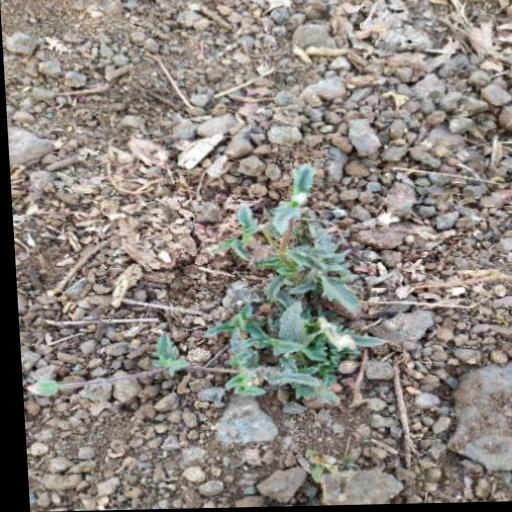weed: (163, 179, 405, 415)
